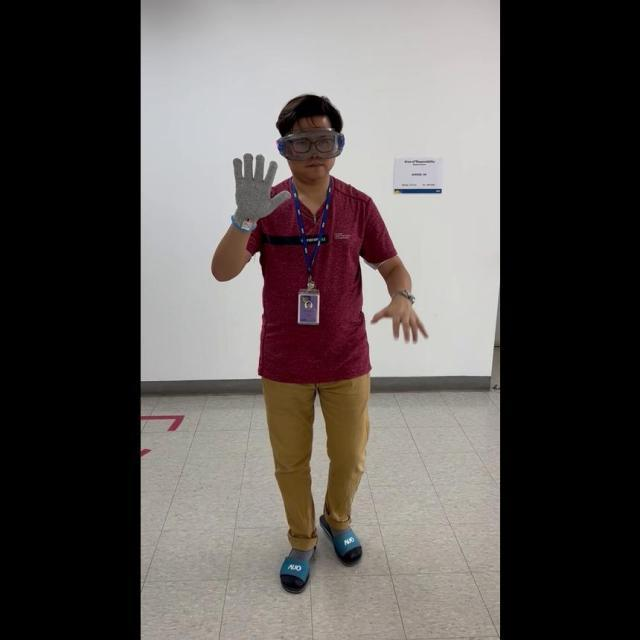bare_hand: (370, 289, 427, 345)
gloved_hand: (227, 149, 287, 229)
